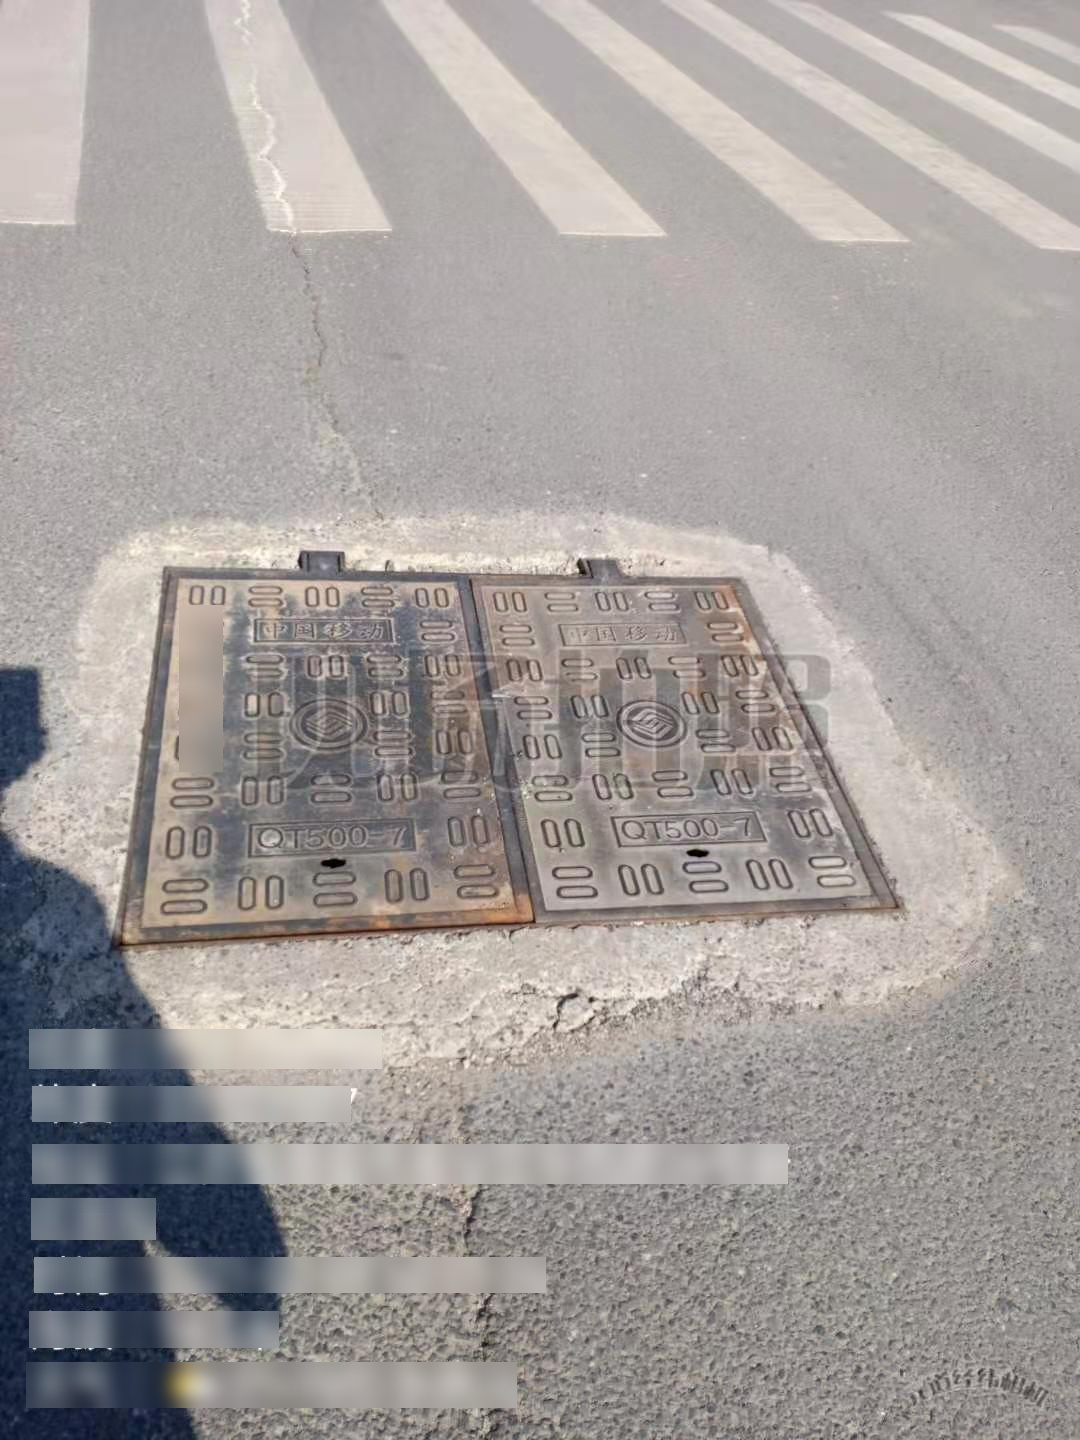good: (110, 550, 908, 950)
